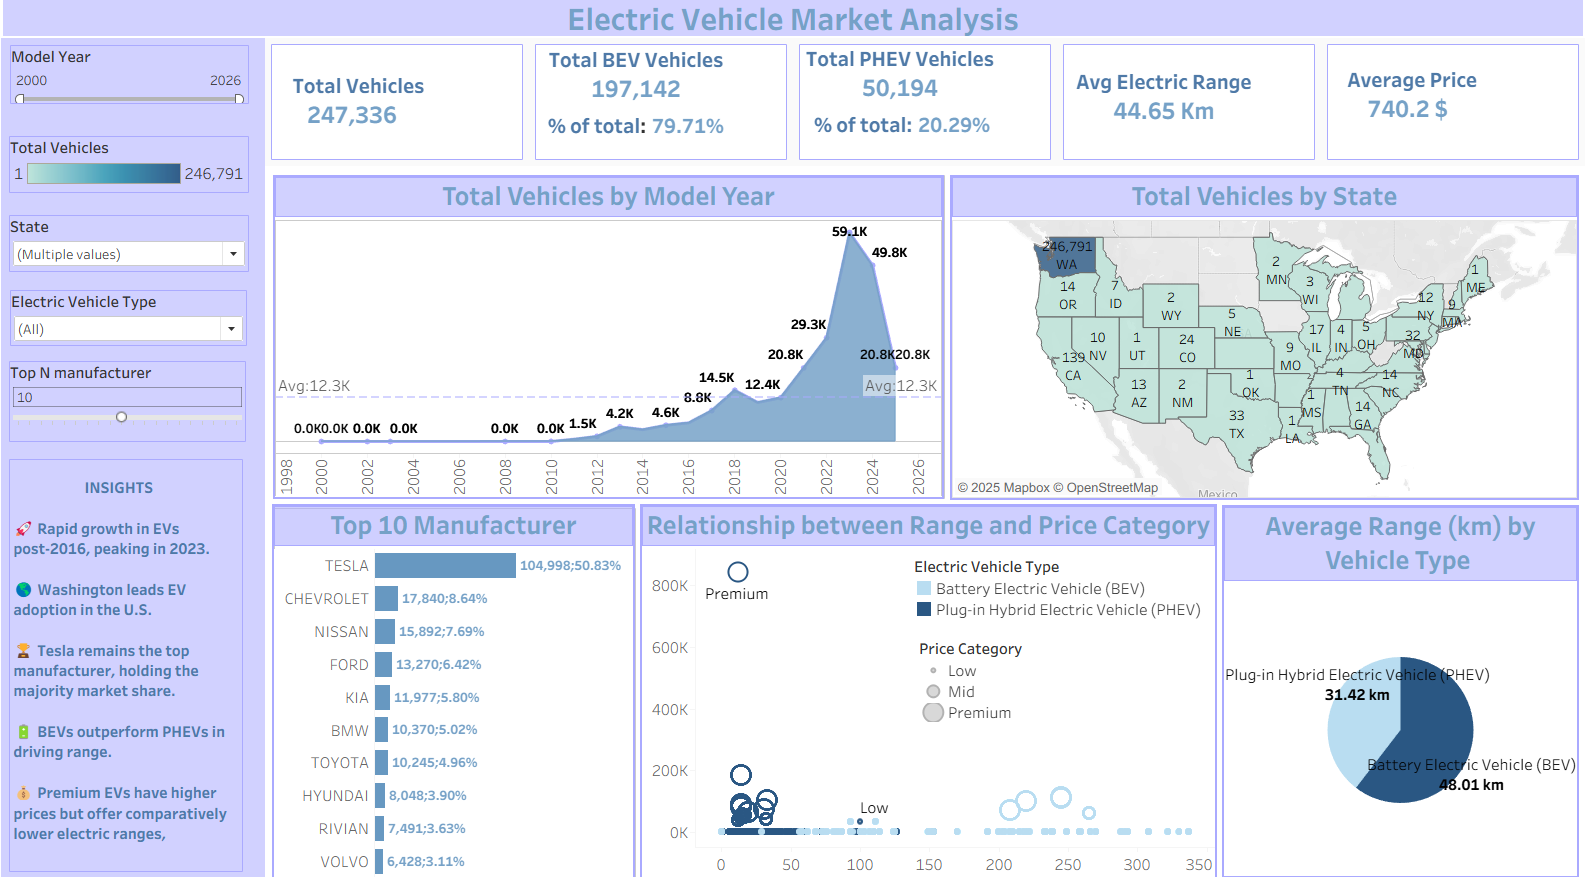

The page's visual inventory and layout, read from the dashboard file:
{"tool":"tableau","page":{"name":"Dashboard 1","canvas":[1600,900],"ordinal":0},"visuals":[{"type":"title","box":[8,8,1584,40]},{"type":"worksheet","title":"Total Vehicles","mark":"Automatic","box":[272,48,264,128]},{"type":"worksheet","title":"Total BEV Vehicles","mark":"Automatic","box":[536,48,264,128]},{"type":"worksheet","title":"Total PHEV Vehicles","mark":"Automatic","box":[800,48,264,128]},{"type":"worksheet","title":"Avg Electric Range","mark":"Automatic","box":[1064,48,264,128]},{"type":"worksheet","title":"Sheet 9","mark":"Automatic","box":[1328,48,264,128]},{"type":"filter","title":"Avg Electric Range","param":"[federated.17ubaxk008czmh101usw500t3wb0].[none:Model Year:qk]","box":[17,55,239,59]},{"type":"legend","title":"Total Vehicles by State","param":"[federated.17ubaxk008czmh101usw500t3wb0].[usr:Calculation_94294185472421888:qk]","box":[16,146,240,57]},{"type":"worksheet","title":"Total Vehicles by Model Year","mark":"Area","rows":["Calculation_94294185472421888","Calculation_94294185472421888"],"cols":["Model Year"],"box":[280,185,671,324]},{"type":"worksheet","title":"Total Vehicles by State","mark":"Automatic","box":[957,185,629,325]},{"type":"filter","title":"Top 10 total vehicles by make","param":"[federated.17ubaxk008czmh101usw500t3wb0].[none:State:nk]","box":[16,225,240,57]},{"type":"filter","title":"Top 10 total vehicles by make","param":"[federated.17ubaxk008czmh101usw500t3wb0].[none:Electric Vehicle Type:nk]","box":[17,300,237,56]},{"type":"parameter","param":"[Parameters].[Parameter 1]","box":[16,371,237,81]},{"type":"text","box":[16,469,234,413]},{"type":"worksheet","title":"Top 10 total vehicles by make","mark":"Bar","rows":["Make"],"cols":["Calculation_94294185472421888"],"box":[279,514,363,376]},{"type":"worksheet","title":"Sheet 7","mark":"Shape","rows":["Base MSRP"],"cols":["Electric Range"],"box":[647,514,577,375]},{"type":"worksheet","title":"Sheet 10","mark":"Pie","box":[1229,515,357,373]},{"type":"legend","title":"Sheet 7","param":"[federated.17ubaxk008czmh101usw500t3wb0].[none:Electric Vehicle Type:nk]","box":[921,566,292,64]},{"type":"legend","title":"Sheet 7","param":"[federated.17ubaxk008czmh101usw500t3wb0].[none:Calculation_964333270363254784:nk","box":[926,648,217,99]}]}

Visuals, with their boxes in screenshot pixels (x1, y1, x2, y2), scaled from the page's 1600x900 canvas onto the 1587x877 screenshot:
title: left=8, top=8, right=1579, bottom=47
"Total Vehicles" worksheet: left=270, top=47, right=532, bottom=172
"Total BEV Vehicles" worksheet: left=532, top=47, right=794, bottom=172
"Total PHEV Vehicles" worksheet: left=794, top=47, right=1055, bottom=172
"Avg Electric Range" worksheet: left=1055, top=47, right=1317, bottom=172
"Sheet 9" worksheet: left=1317, top=47, right=1579, bottom=172
"Avg Electric Range" filter: left=17, top=54, right=254, bottom=111
"Total Vehicles by State" legend: left=16, top=142, right=254, bottom=198
"Total Vehicles by Model Year" worksheet (Area marks): left=278, top=180, right=943, bottom=496
"Total Vehicles by State" worksheet: left=949, top=180, right=1573, bottom=497
"Top 10 total vehicles by make" filter: left=16, top=219, right=254, bottom=275
"Top 10 total vehicles by make" filter: left=17, top=292, right=252, bottom=347
parameter: left=16, top=362, right=251, bottom=440
text: left=16, top=457, right=248, bottom=859
"Top 10 total vehicles by make" worksheet (Bar marks): left=277, top=501, right=637, bottom=867
"Sheet 7" worksheet (Shape marks): left=642, top=501, right=1214, bottom=866
"Sheet 10" worksheet (Pie marks): left=1219, top=502, right=1573, bottom=865
"Sheet 7" legend: left=914, top=552, right=1203, bottom=614
"Sheet 7" legend: left=918, top=631, right=1134, bottom=728
